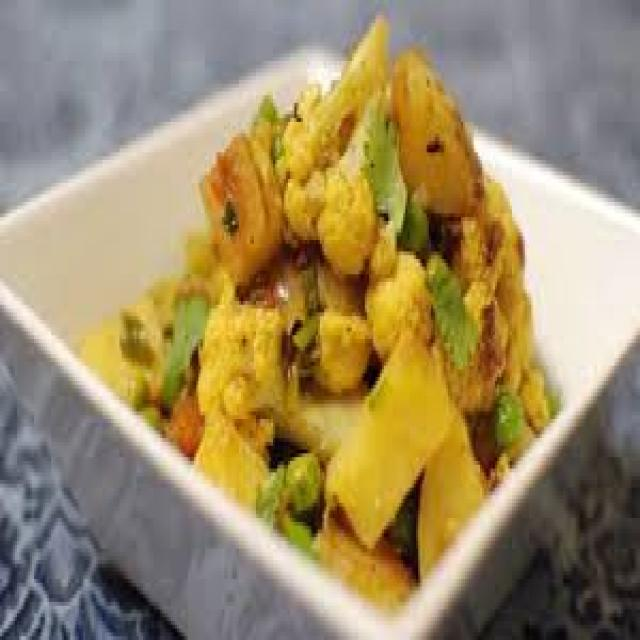Aloo Gobi: (205, 17, 482, 510)
